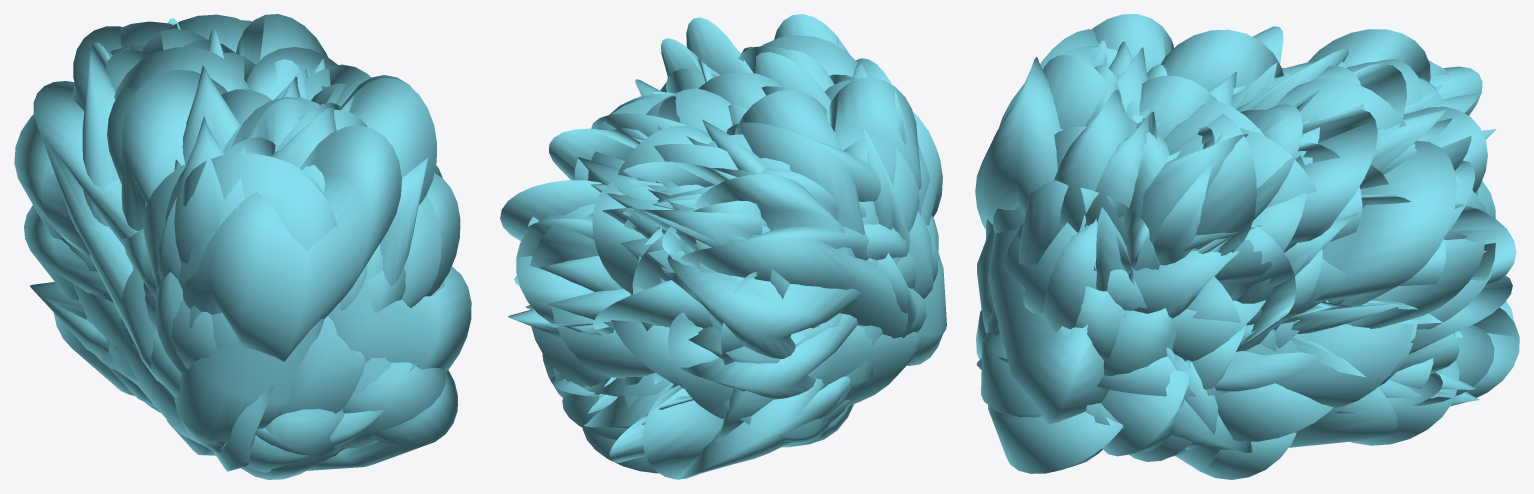
The picture shows the model from 3 angles, left to right: view 1: azimuth 30°, elevation 25°; view 2: azimuth 150°, elevation 25°; view 3: azimuth 270°, elevation 25°; orthographic projection. The views are drawn at different scales.
Parts seen in each view (by area): view 1: SO_E; view 2: SO_E; view 3: SO_E.
Part boxes in pixels (x1,y1,x2,y2): SO_E: (14, 14, 471, 479); SO_E: (500, 14, 946, 479); SO_E: (975, 14, 1519, 479).
Bounding box in the file's own units: 11.36 × 13.25 × 15.97.
